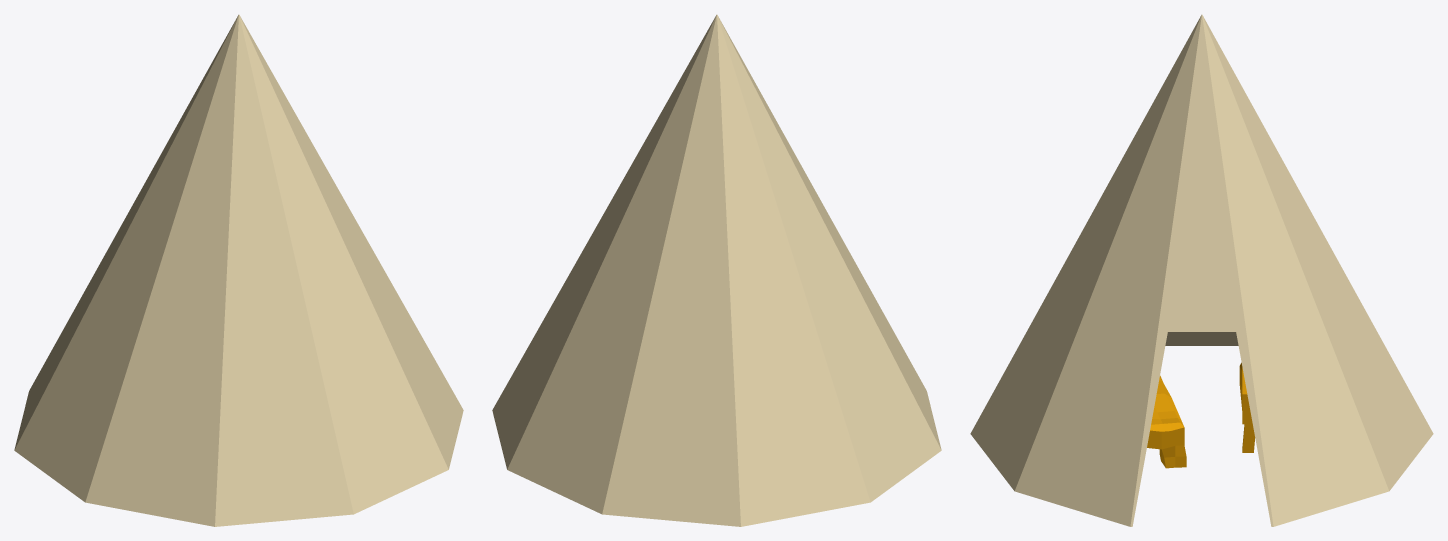
The model's file is hut.fbx.
The picture shows the model from 3 angles, left to right: view 1: azimuth 30°, elevation 25°; view 2: azimuth 150°, elevation 25°; view 3: azimuth 270°, elevation 25°; orthographic projection.
Visible parts, largest first — view 1: Cone; view 2: Cone; view 3: Cone, Cube, Cube.001.
Boxes of the visible parts, x1,y1,x2,y2 form: Cone: [14, 14, 463, 526]; Cone: [492, 14, 941, 526]; Cone: [970, 14, 1433, 526]; Cube: [1147, 375, 1186, 468]; Cube.001: [1239, 362, 1255, 452].
Size of the model in its own units: 4.91 by 5.17 by 5.19.
